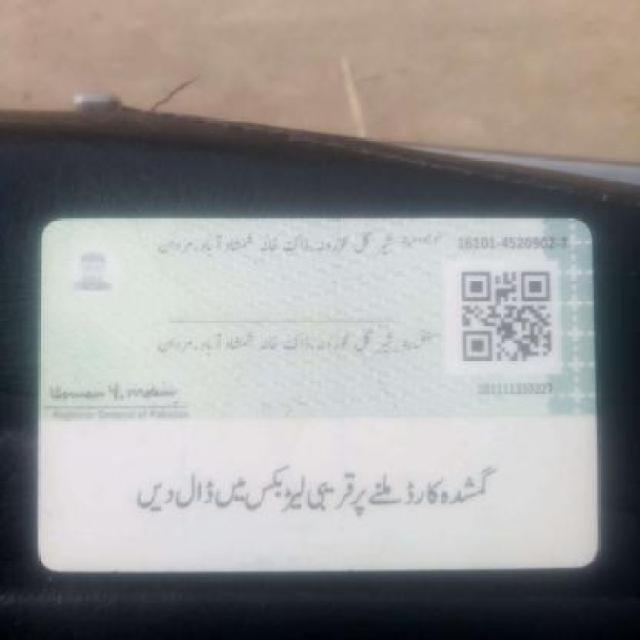Back: (32, 215, 602, 571)
